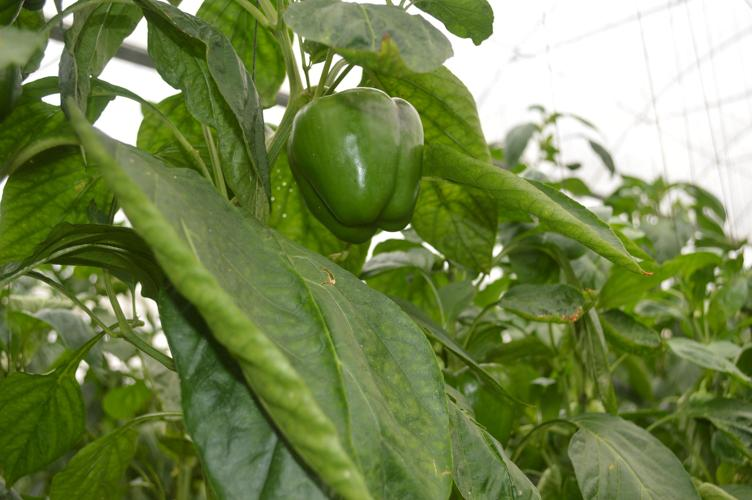BellPepper: (282, 86, 423, 241)
